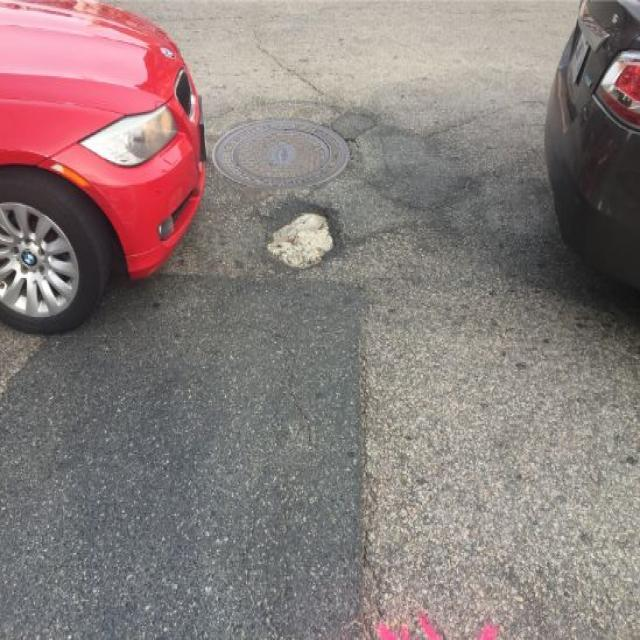pothole: (259, 196, 343, 272)
